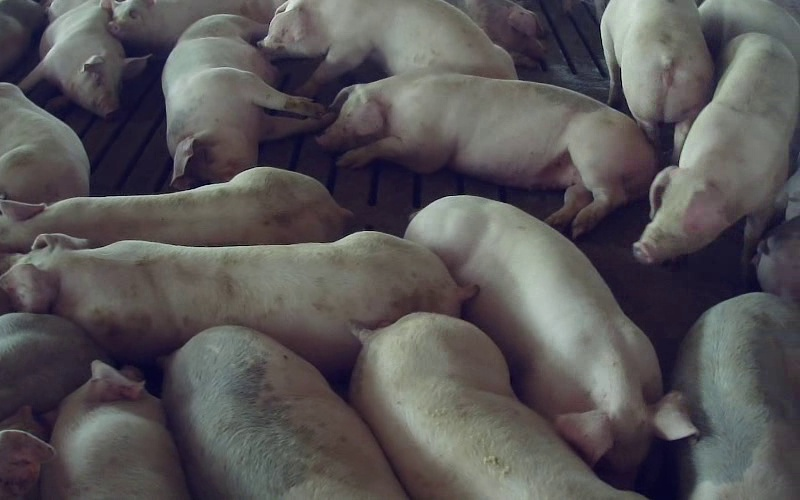pig: (405, 196, 695, 486), (0, 232, 473, 371), (318, 72, 655, 236), (350, 313, 642, 499), (163, 327, 405, 499), (0, 167, 351, 251), (162, 15, 331, 188), (673, 293, 799, 499), (261, 0, 516, 95), (42, 360, 188, 499), (601, 0, 712, 162), (19, 0, 147, 116), (103, 0, 283, 50)
